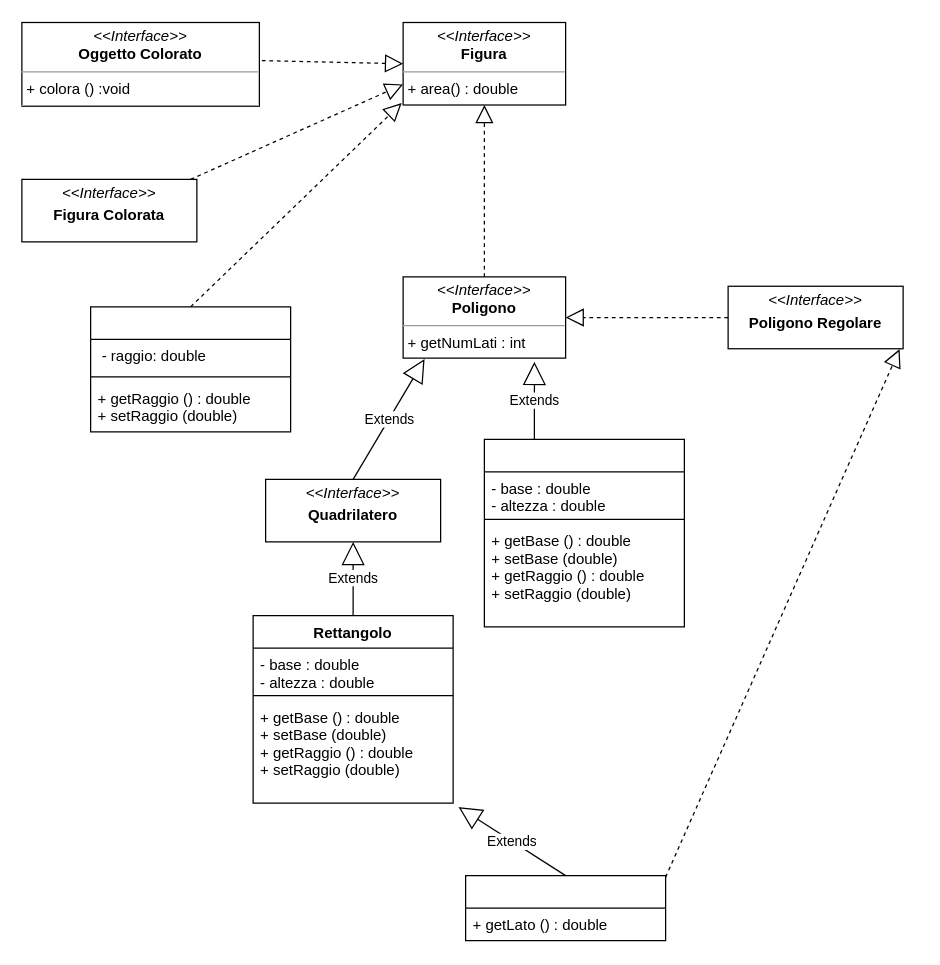
This 940x965 diagram has some shape labels left out. Here are the shapes that lost their labels. From the top down, the box of each, then its label:
(89, 306, 291, 432): Cerchio
(483, 438, 684, 627): Triangolo
(464, 874, 666, 941): Quadrato
